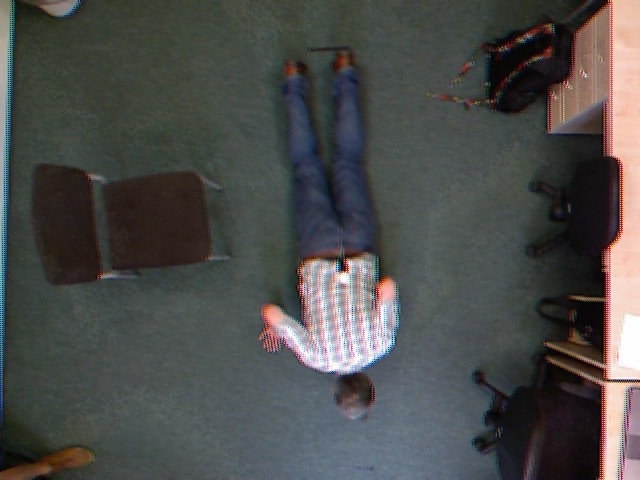fall: (250, 40, 402, 426)
